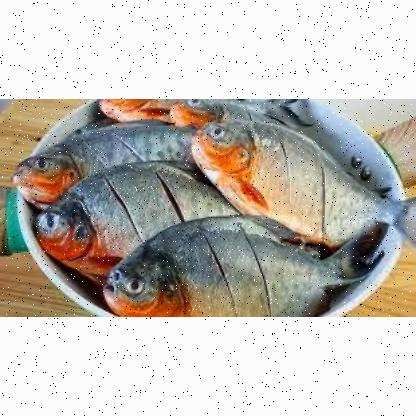ikan-pacu: (104, 219, 364, 316), (190, 117, 394, 233), (33, 169, 195, 273), (16, 122, 164, 198)
